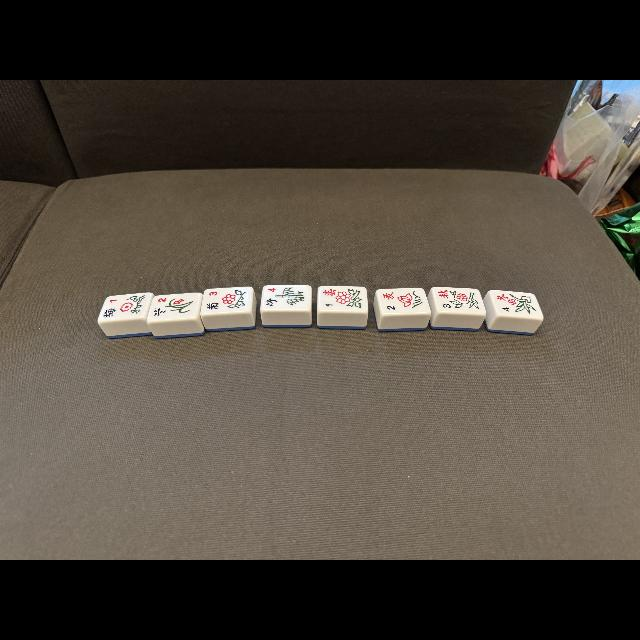f1: (101, 293, 121, 319)
f2: (150, 294, 170, 322)
f3: (203, 288, 221, 314)
f4: (262, 285, 280, 311)
s1: (319, 288, 339, 312)
s2: (379, 288, 399, 314)
s3: (433, 288, 452, 316)
s4: (491, 290, 511, 318)
